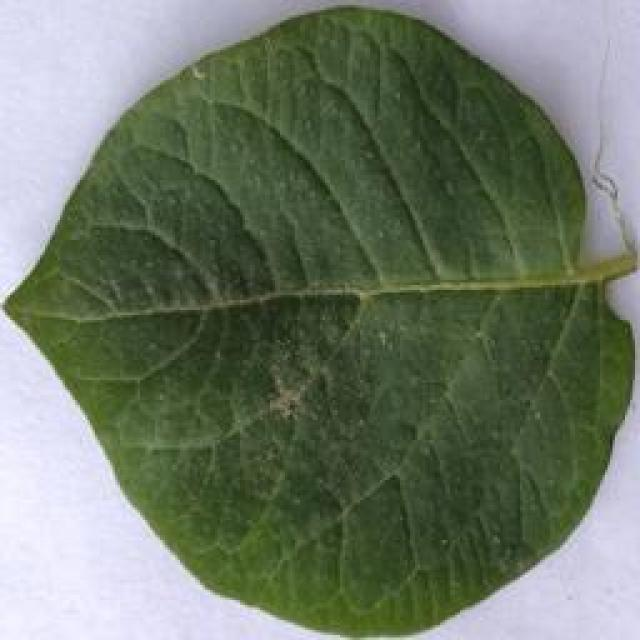Potato_Healthy: (3, 7, 624, 633)
